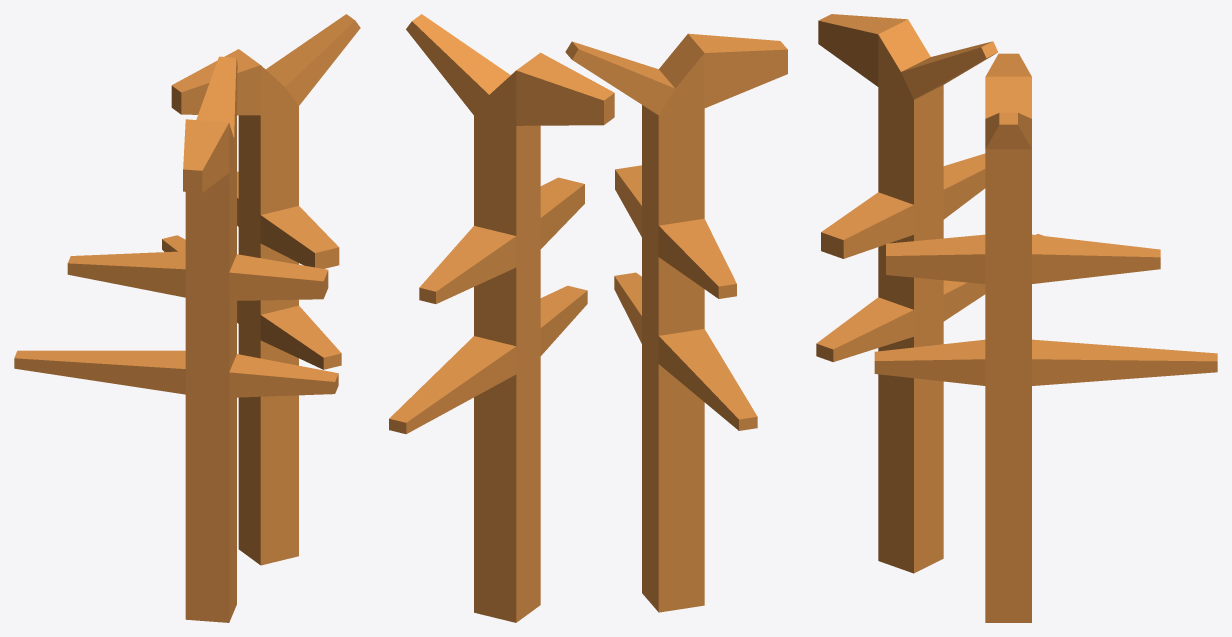
Rendered from plant_c.gltf.
3 renders of one model, left to right at view 1: azimuth 30°, elevation 25°; view 2: azimuth 150°, elevation 25°; view 3: azimuth 270°, elevation 25°, orthographic. The views are drawn at different scales.
Parts seen in each view (by area): view 1: plant_c; view 2: plant_c; view 3: plant_c.
Part boxes in pixels (left/top/right/bottom): plant_c: left=14, top=14, right=360, bottom=622; plant_c: left=389, top=14, right=787, bottom=622; plant_c: left=816, top=14, right=1217, bottom=622.
Size of the model in its own units: 0.5147 by 0.7727 by 0.518.
Materials: 1 (1 with a texture image).
